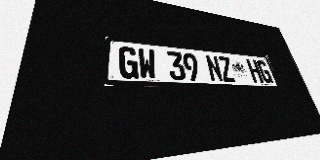3: (167, 51, 186, 81)
9: (182, 52, 201, 81)
G: (119, 46, 139, 79), (256, 60, 274, 83)
H: (246, 59, 264, 83)
N: (205, 55, 224, 82)
W: (137, 48, 157, 80)
Z: (217, 56, 236, 82)
